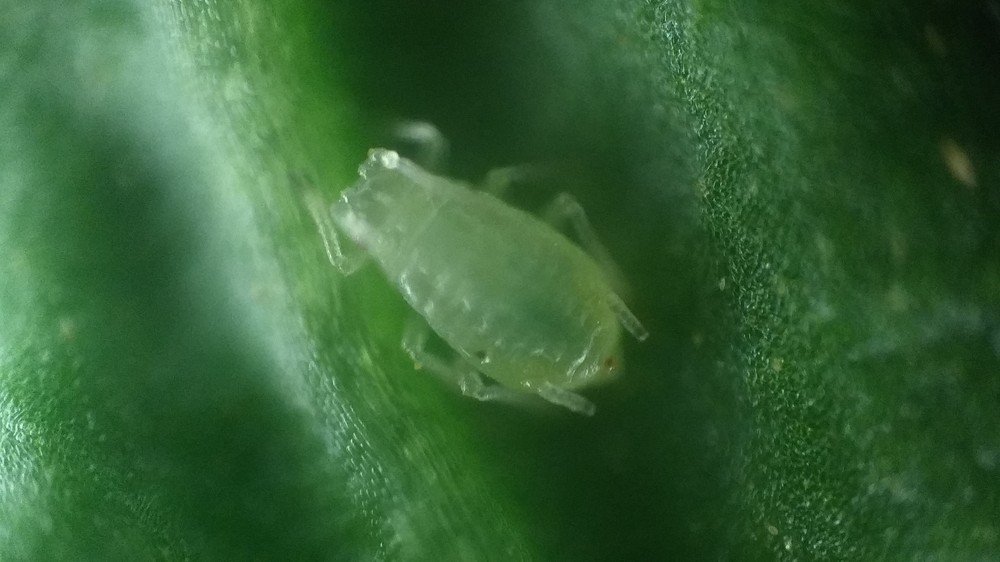Pulgon: (281, 107, 691, 462)
